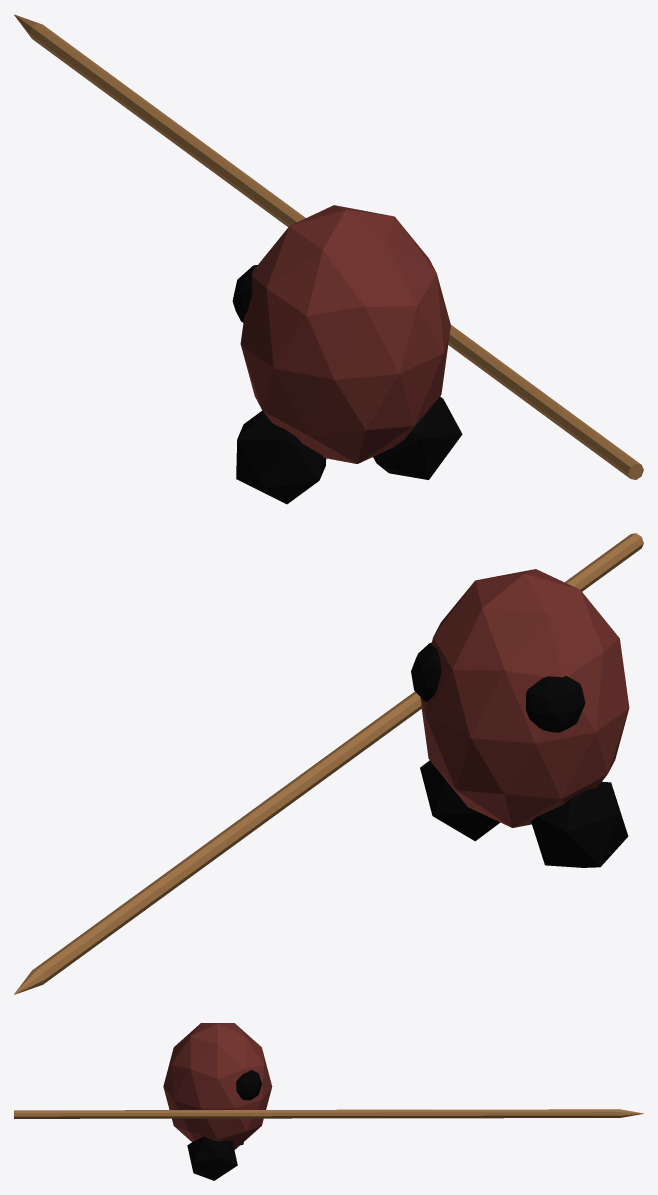
The model's file is walk.f0013.glb.
3 views of the same model, one above another, from view 1: azimuth 30°, elevation 25°; view 2: azimuth 150°, elevation 25°; view 3: azimuth 270°, elevation 25° (orthographic). The views are drawn at different scales.
Parts seen in each view (by area): view 1: Body.001; view 2: Body.001; view 3: Body.001.
Part boxes in pixels (<box>): Body.001: <box>14,14,643,504</box>; Body.001: <box>14,533,643,994</box>; Body.001: <box>14,1023,643,1180</box>.
Bounding box in the file's own units: 2.17 × 2.87 × 11.56.
Materials: 1 (1 with a texture image).
